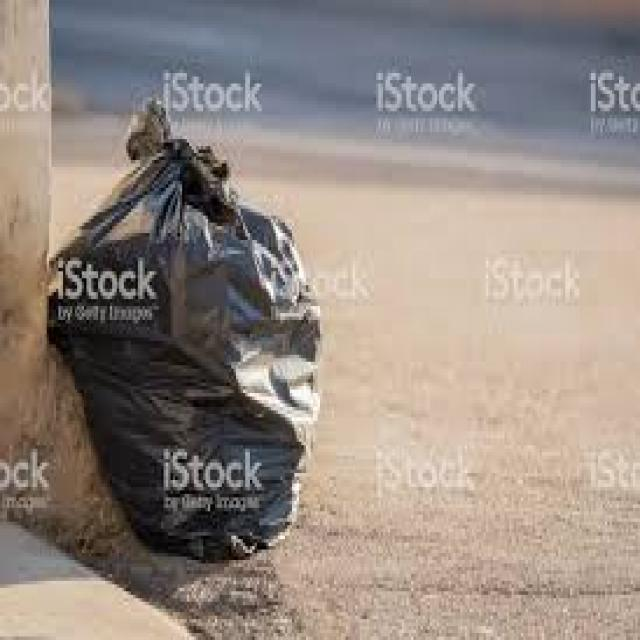plastic_bag: (76, 140, 309, 526)
